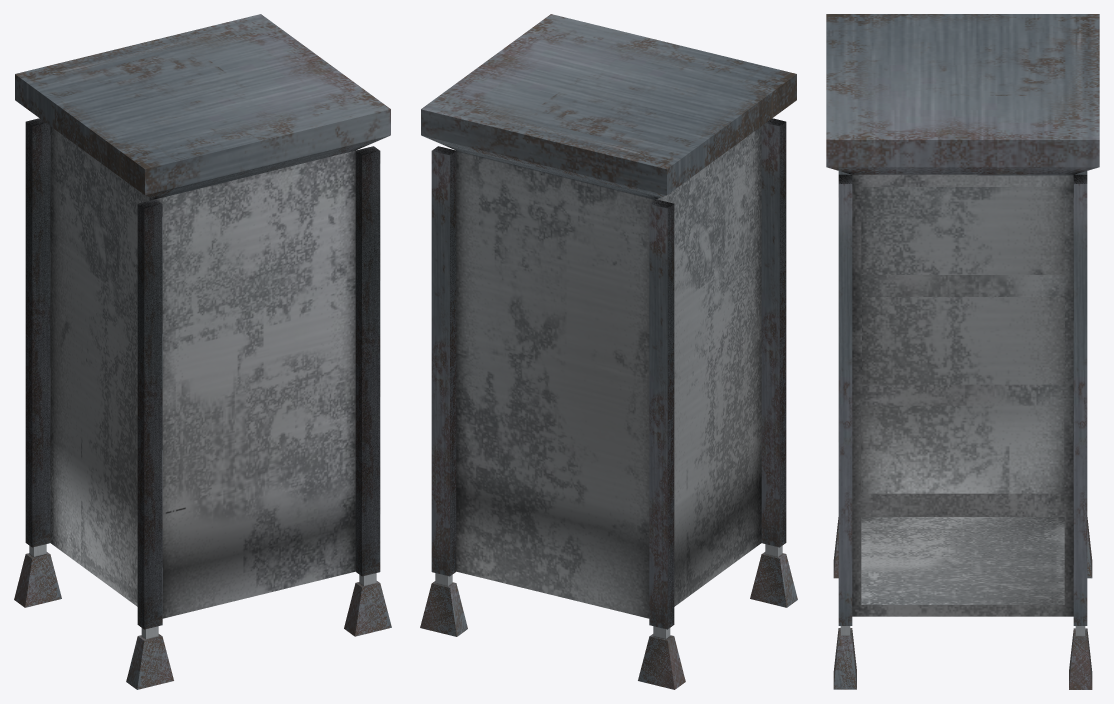
Rendered from DrawerFrame.fbx.
3 views of the same model, side by side, from view 1: azimuth 30°, elevation 25°; view 2: azimuth 150°, elevation 25°; view 3: azimuth 270°, elevation 25° (orthographic). The views are drawn at different scales.
Visible parts, largest first — view 1: polySurface204; view 2: polySurface204; view 3: polySurface204.
Boxes of the visible parts, bbox=[...] form: polySurface204: bbox=[14, 14, 391, 689]; polySurface204: bbox=[420, 14, 797, 689]; polySurface204: bbox=[826, 14, 1099, 689].
Size of the model in its own units: 4.09 by 8.01 by 3.62.
